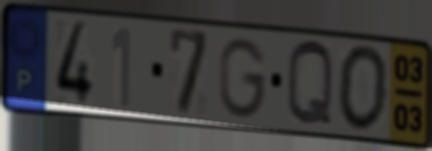1: (110, 26, 132, 110)
4: (51, 17, 97, 110)
7: (167, 25, 212, 119)
G: (217, 35, 270, 121)
O: (335, 42, 391, 135)
Q: (284, 37, 336, 131)
